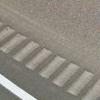Crosswalk: (4, 21, 93, 97)
